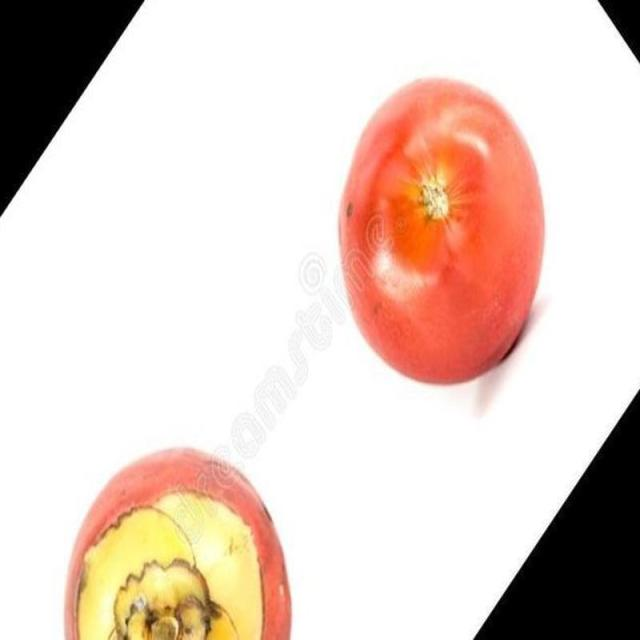good: (339, 78, 546, 387), (67, 451, 292, 639), (440, 267, 456, 294)
